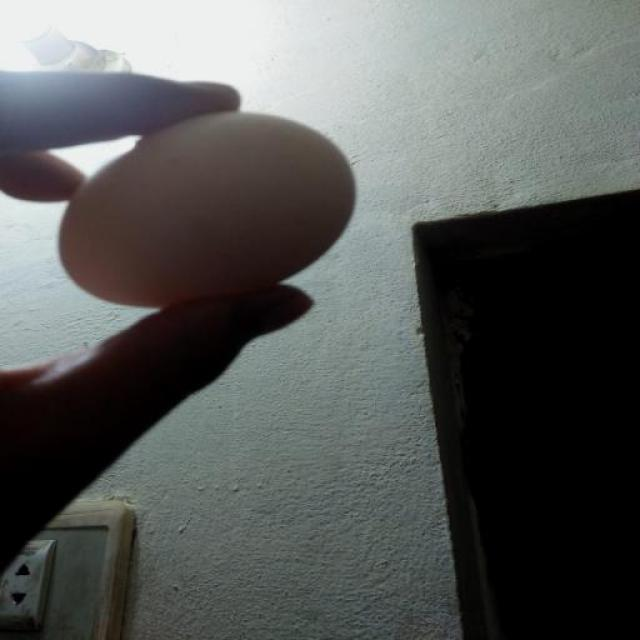telur: (62, 114, 356, 306)
